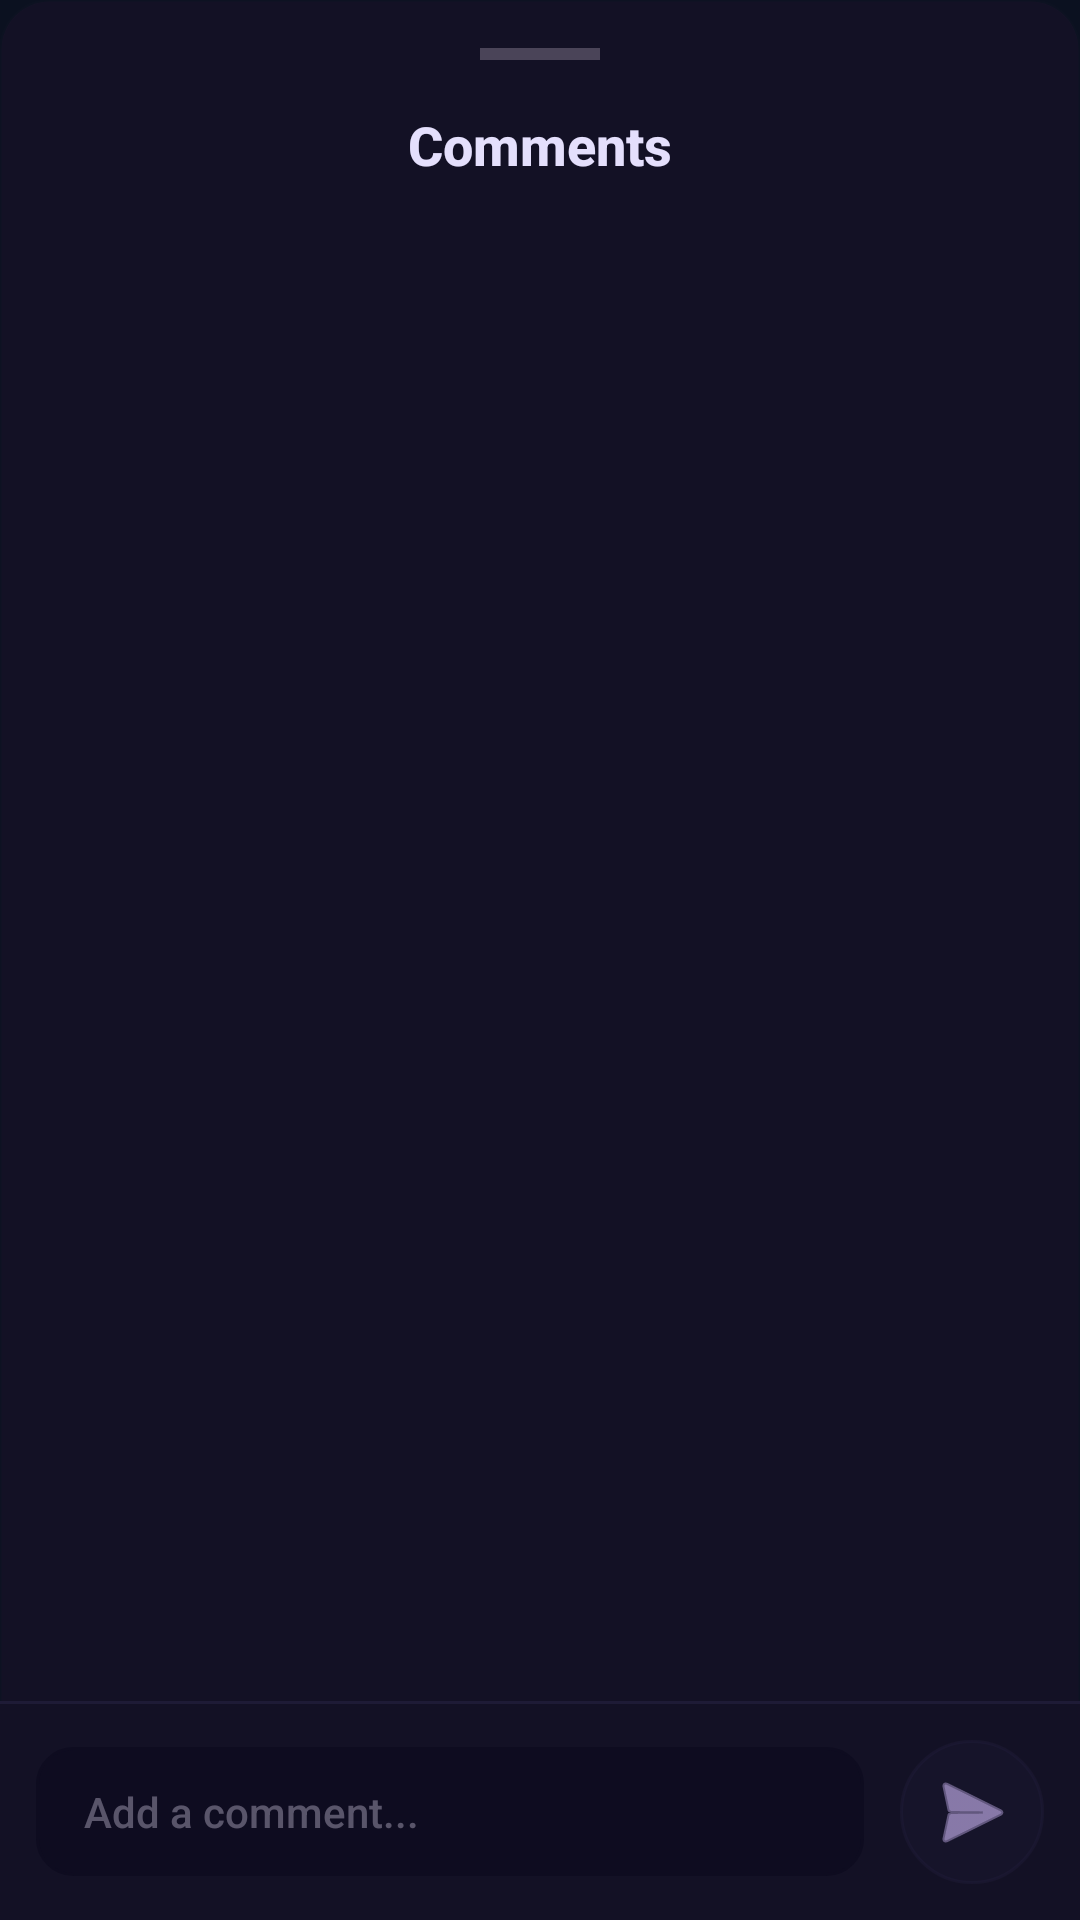

Screen size 1080 x 1920. Icon name, then its center in pixels as (x,y):
send: (973,1812)
